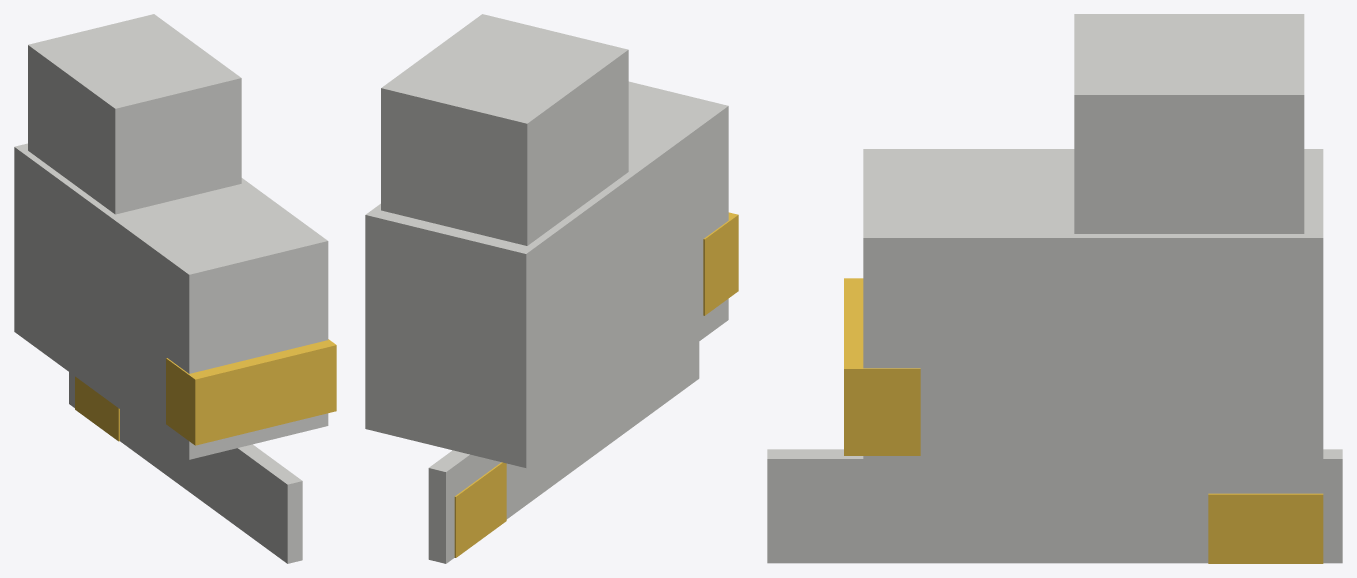
The model's file is rink_golden_skate.glb.
3 renders of one model, left to right at view 1: azimuth 30°, elevation 25°; view 2: azimuth 150°, elevation 25°; view 3: azimuth 270°, elevation 25°, orthographic. The views are drawn at different scales.
Visible parts, largest first — view 1: boot_golden_skate_paint, shaft_golden_skate_paint, chip_toe_golden_skate_gold, blade_golden_skate_paint, chip_heel_golden_skate_gold; view 2: boot_golden_skate_paint, shaft_golden_skate_paint, blade_golden_skate_paint, chip_heel_golden_skate_gold, chip_toe_golden_skate_gold; view 3: boot_golden_skate_paint, shaft_golden_skate_paint, blade_golden_skate_paint, chip_toe_golden_skate_gold, chip_heel_golden_skate_gold.
Boxes of the visible parts, bbox=[...] form: boot_golden_skate_paint: bbox=[14, 143, 328, 459]; shaft_golden_skate_paint: bbox=[28, 14, 241, 214]; chip_toe_golden_skate_gold: bbox=[166, 339, 336, 445]; blade_golden_skate_paint: bbox=[69, 372, 302, 563]; chip_heel_golden_skate_gold: bbox=[75, 376, 119, 441]; boot_golden_skate_paint: bbox=[365, 81, 728, 467]; shaft_golden_skate_paint: bbox=[381, 14, 628, 245]; blade_golden_skate_paint: bbox=[428, 342, 699, 563]; chip_heel_golden_skate_gold: bbox=[454, 462, 506, 557]; chip_toe_golden_skate_gold: bbox=[703, 212, 738, 315]; boot_golden_skate_paint: bbox=[863, 149, 1323, 481]; shaft_golden_skate_paint: bbox=[1074, 14, 1304, 233]; blade_golden_skate_paint: bbox=[767, 449, 1342, 563]; chip_toe_golden_skate_gold: bbox=[844, 278, 920, 455]; chip_heel_golden_skate_gold: bbox=[1208, 493, 1323, 563].
Bounding box in the file's own units: 0.112 × 0.29 × 0.3.
